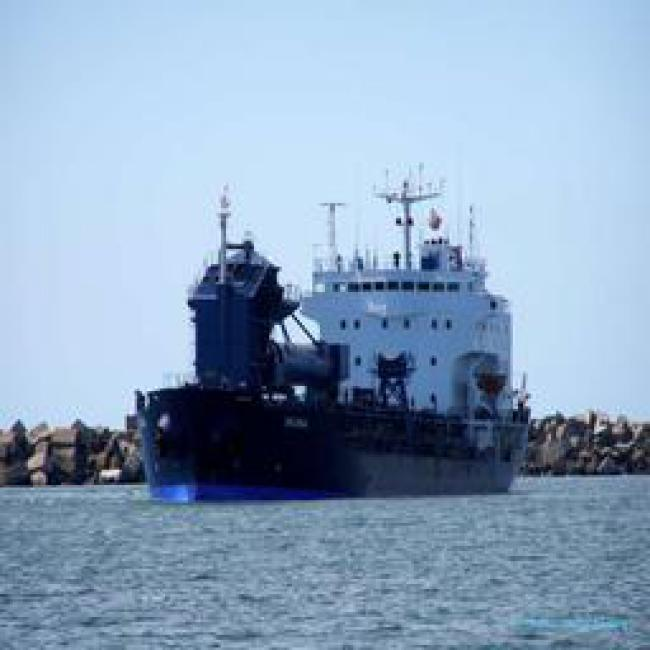Ship: (57, 250, 537, 502)
